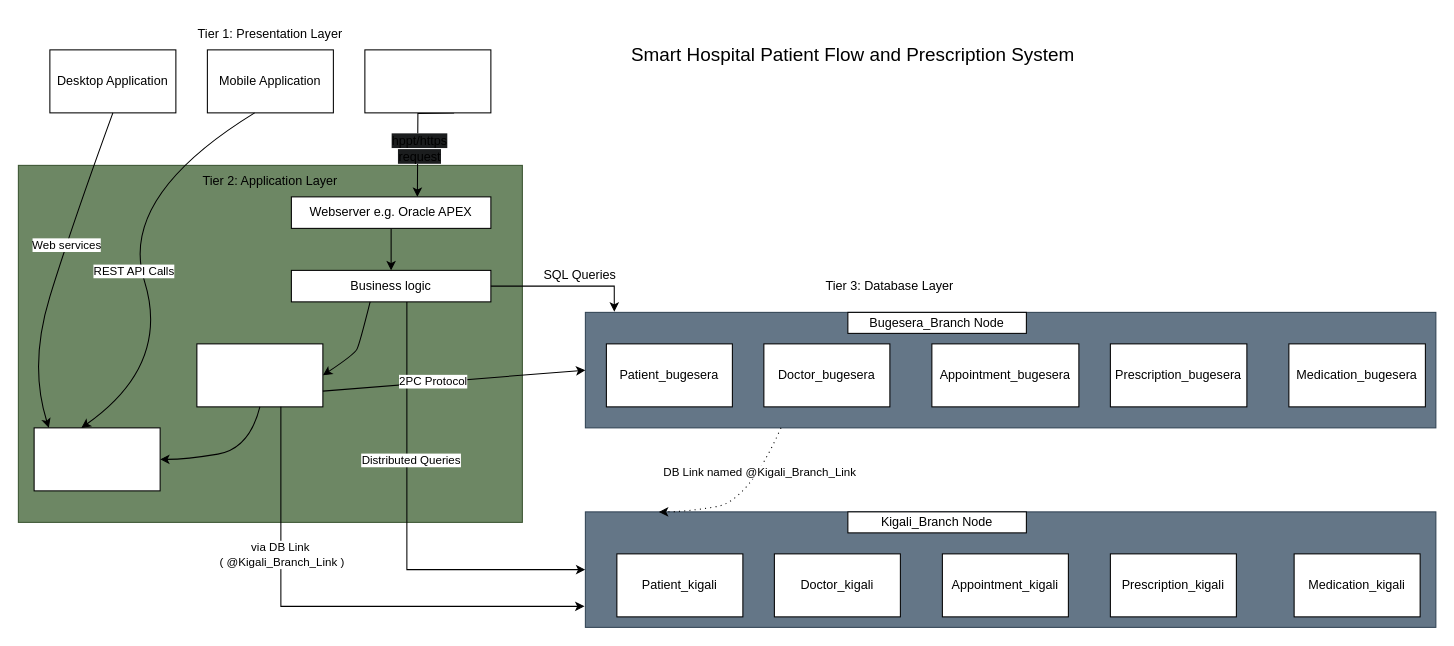
Some shapes in this 1454 by 646 pixel diagram are drawn without their labels. Each missing label, with the centre of its shape:
REST API services JSON/XML webservices: the point at 96,459
Transaction Manager Distributed TXN Handling: the point at 259,375
Web Application: the point at 427,81
